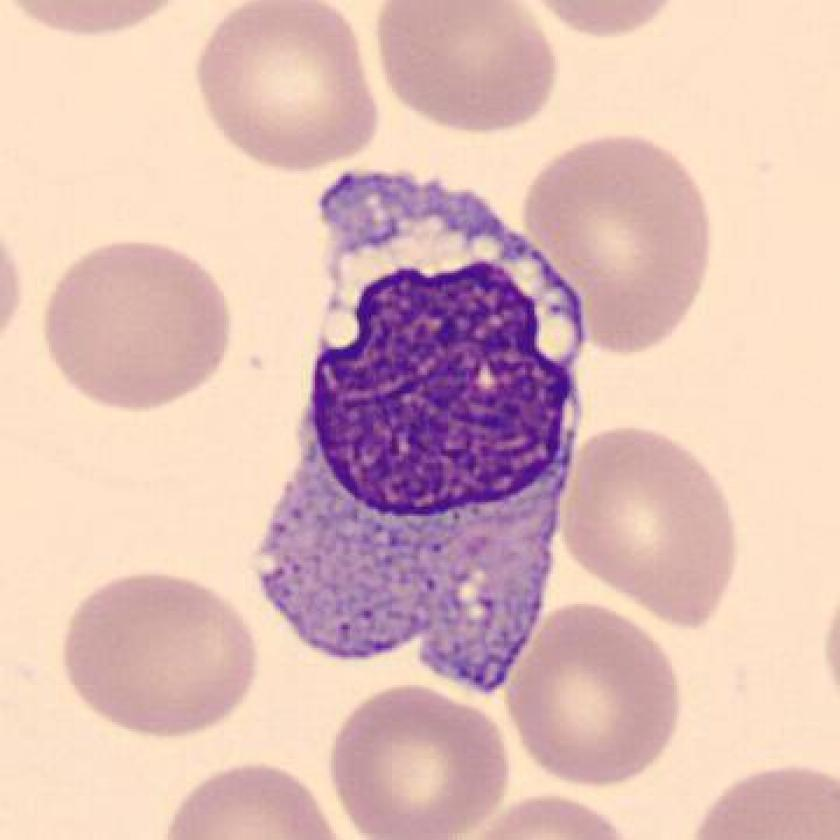monocyte: (241, 154, 608, 723)
